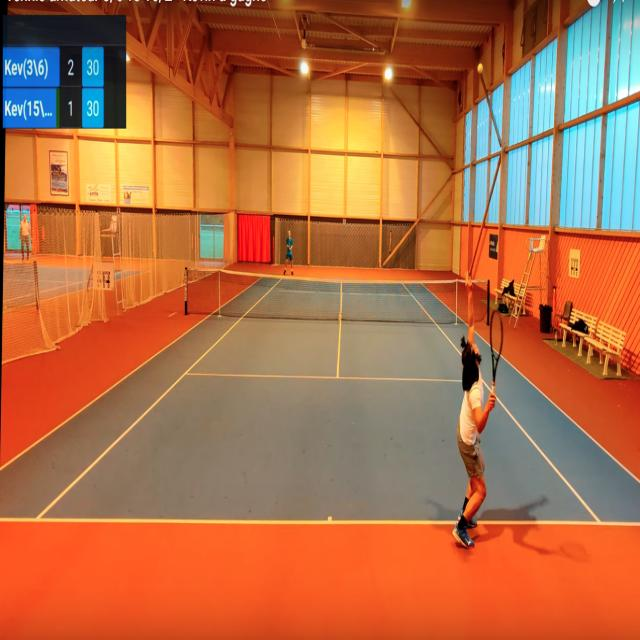ball: (477, 63, 483, 74)
